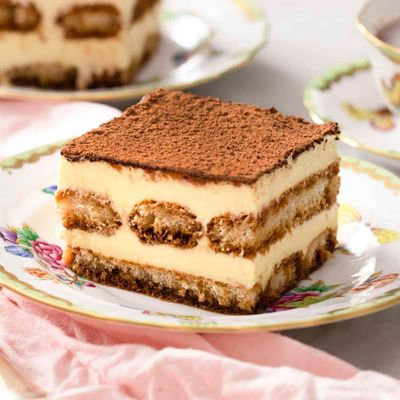salad: (0, 0, 161, 91)
sushi: (52, 88, 347, 313), (0, 0, 161, 90)
